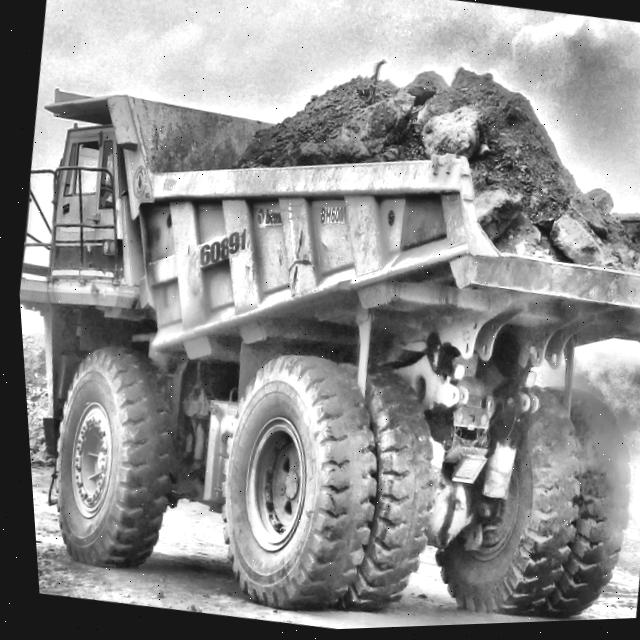dump_truck: (15, 64, 640, 619)
